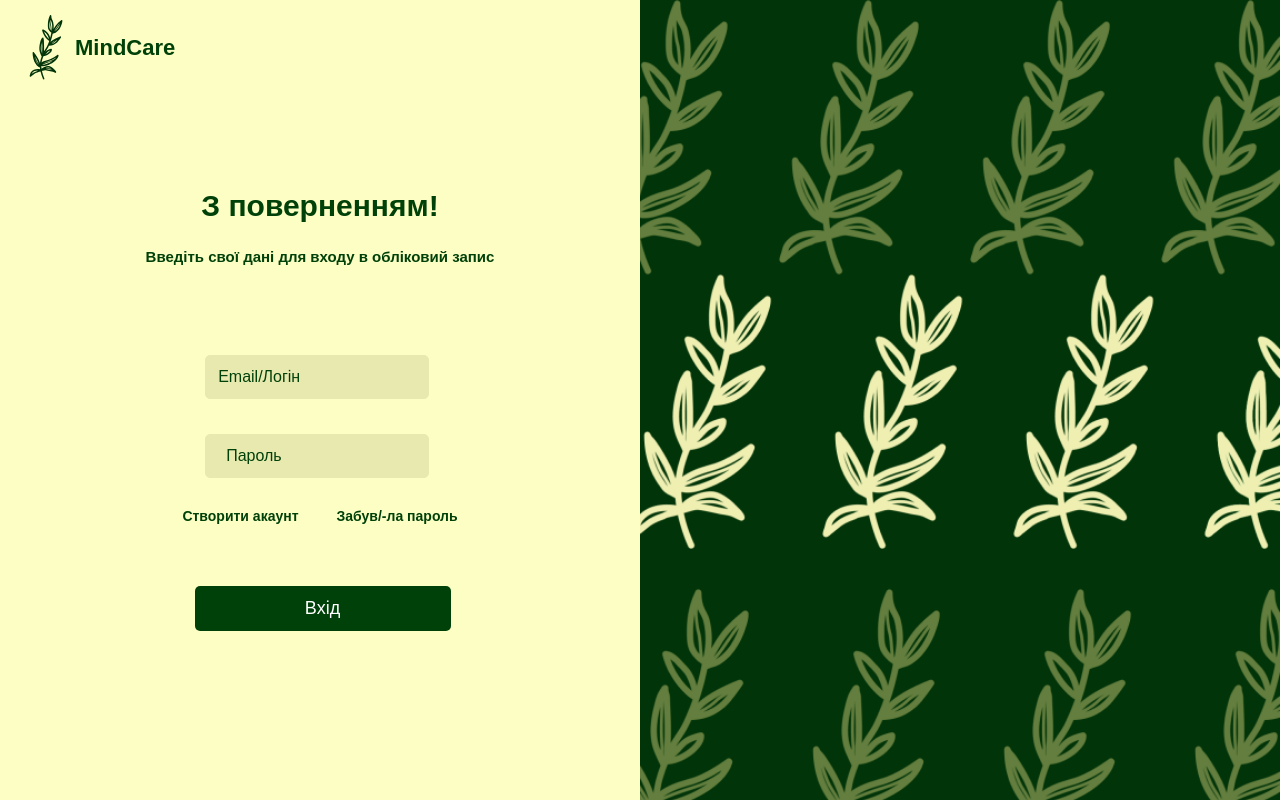
Test case: LoginPage › shows validation error when email and password are empty
The width and height of the screenshot is (1280, 800).
Click the button "Вхід": (322, 609) top-left (194, 586), bottom-right (450, 631)
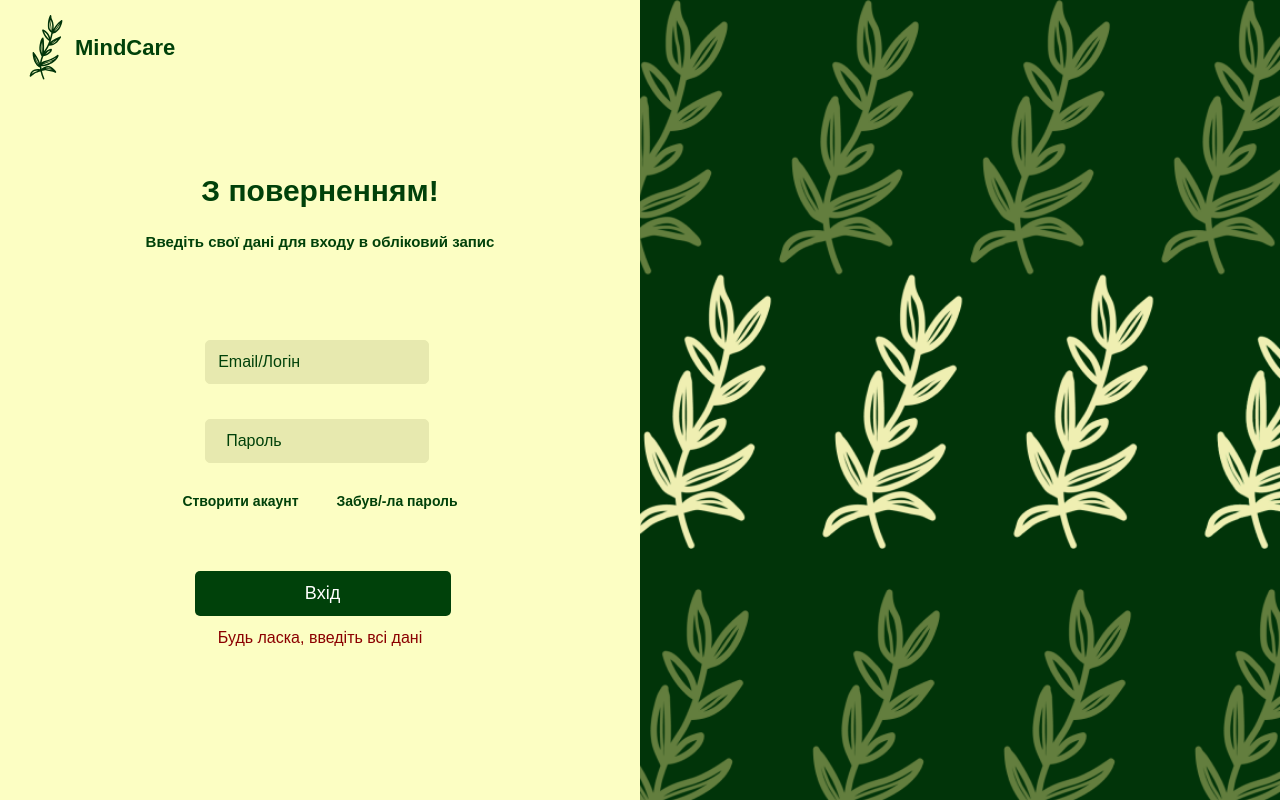
Check: the text "Будь ласка, введіть всі дані" is shown, box top-left (218, 629), bottom-right (422, 647)
